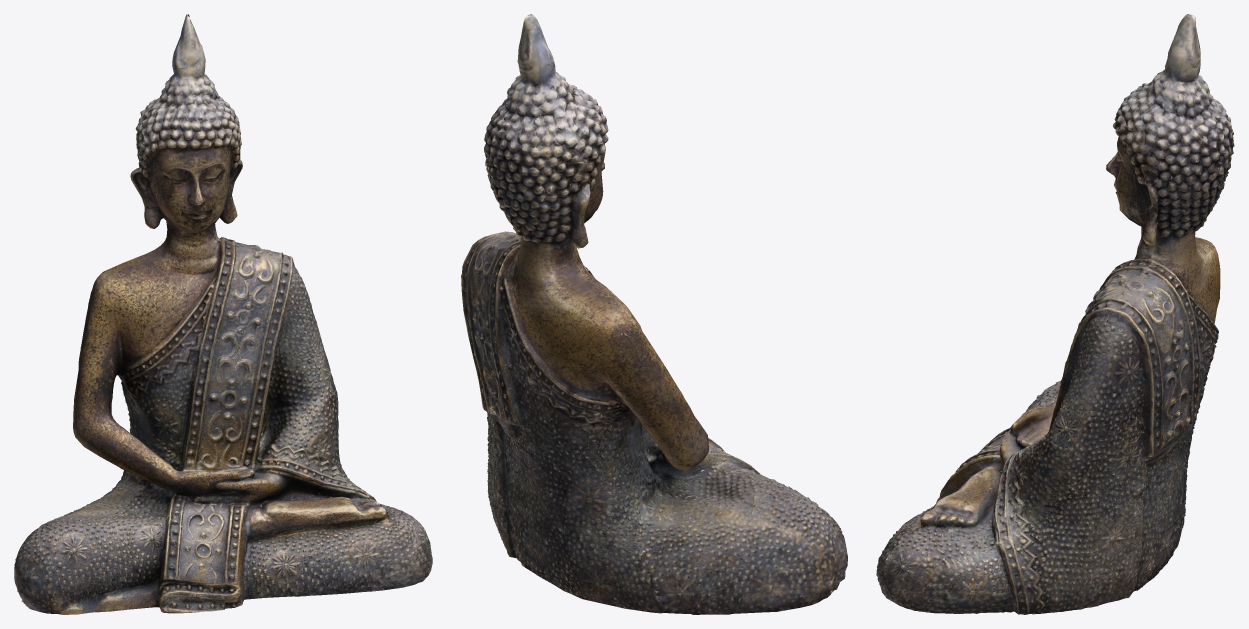
Rendered from longevity.glb.
3 renders of one model, left to right at view 1: azimuth 30°, elevation 25°; view 2: azimuth 150°, elevation 25°; view 3: azimuth 270°, elevation 25°, orthographic. The views are drawn at different scales.
Visible parts, largest first — view 1: Object_2; view 2: Object_2; view 3: Object_2.
Boxes of the visible parts, left/top/right/bottom form: Object_2: left=14, top=14, right=432, bottom=614; Object_2: left=461, top=14, right=847, bottom=614; Object_2: left=876, top=14, right=1234, bottom=614.
Bounding box in the file's own units: 70.83 × 101 × 58.36.
1 material, 1 textured.
